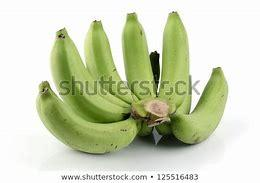banana: (30, 12, 230, 145), (34, 84, 141, 158), (52, 28, 131, 111), (168, 70, 238, 144), (116, 11, 168, 97), (151, 13, 193, 108), (86, 19, 133, 95)
